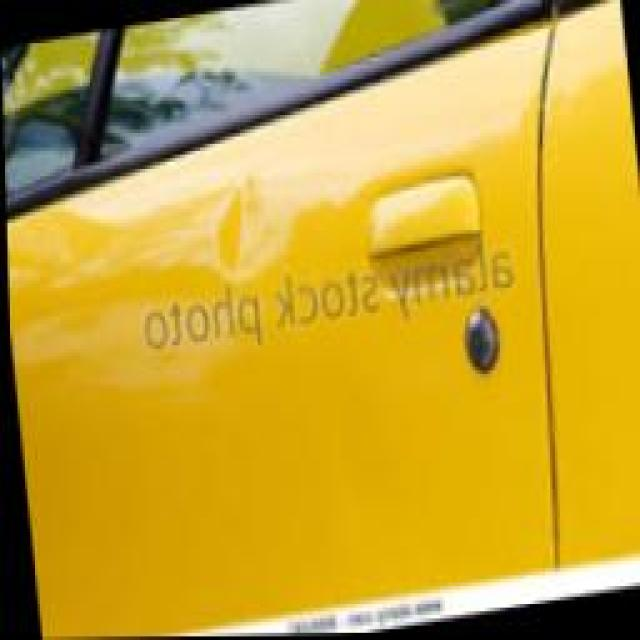Door: (158, 115, 328, 326)
